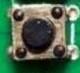Button: (7, 4, 77, 70)
